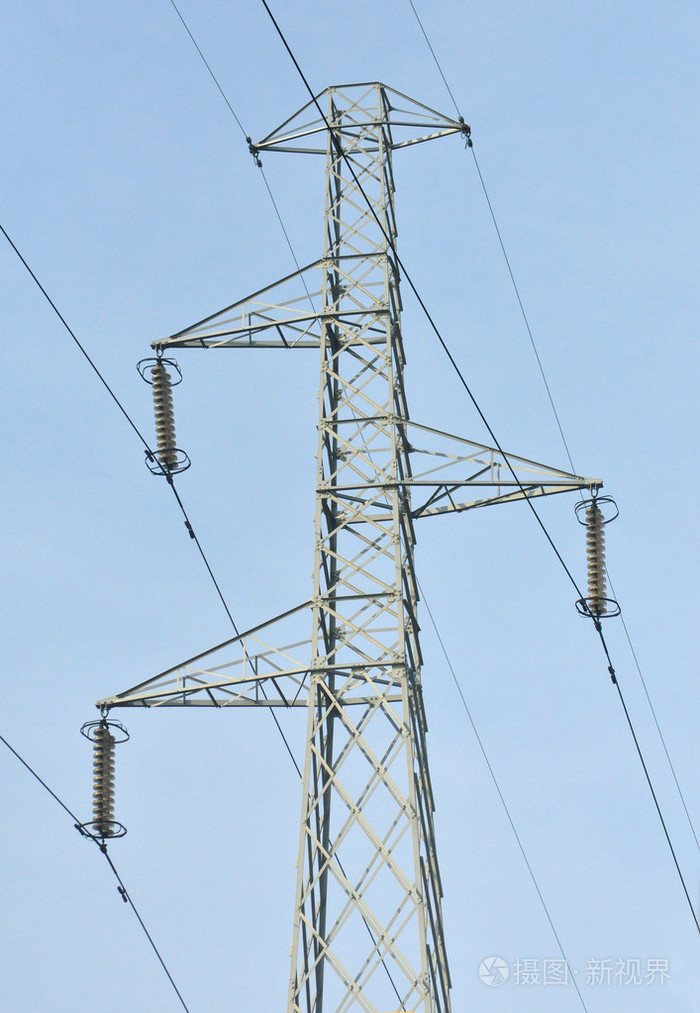insulator: (144, 362, 181, 464), (583, 504, 613, 614), (88, 725, 119, 831)
